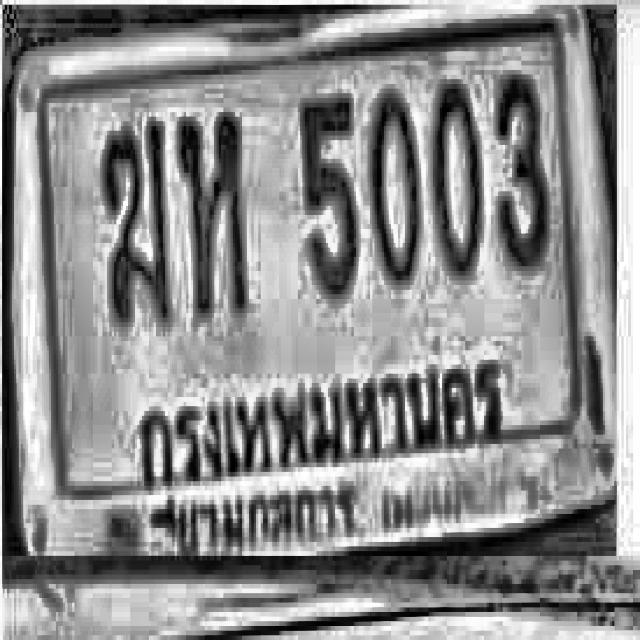license-plate: (2, 4, 617, 557)
